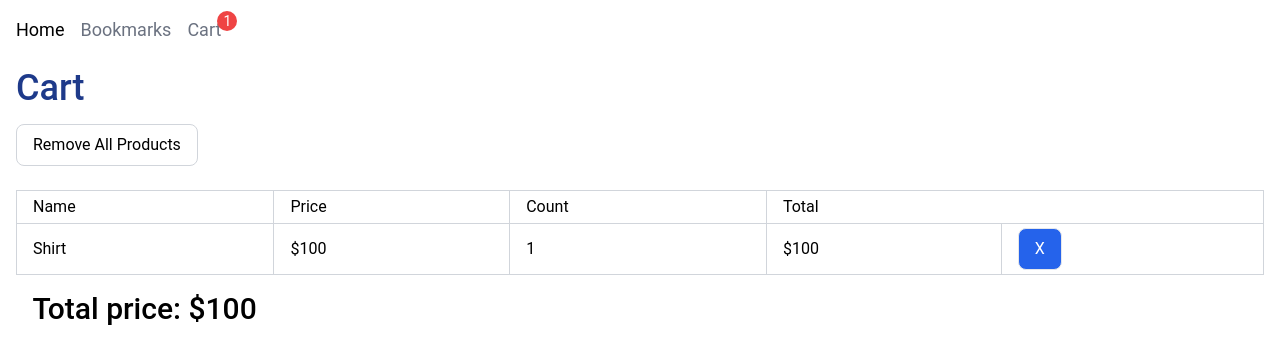
Cart › Integration tests › Removing Cart
The width and height of the screenshot is (1280, 360).
Expected: the text "Total price: $100" is shown, top-left (16, 274), bottom-right (1264, 343)
Click the button "Remove All Products" at (107,145), box top-left (16, 124), bottom-right (198, 166)
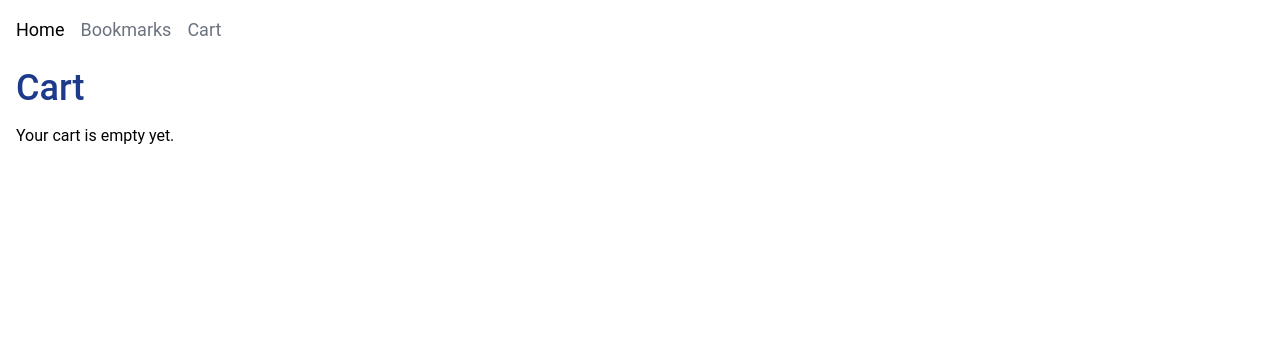
Now the text "Your cart is empty yet." is shown, box top-left (16, 126), bottom-right (174, 145)
